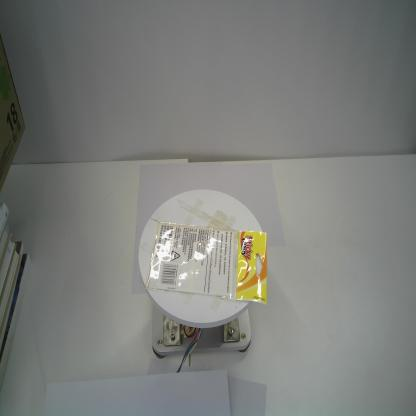Stationery: (145, 222, 268, 306)
